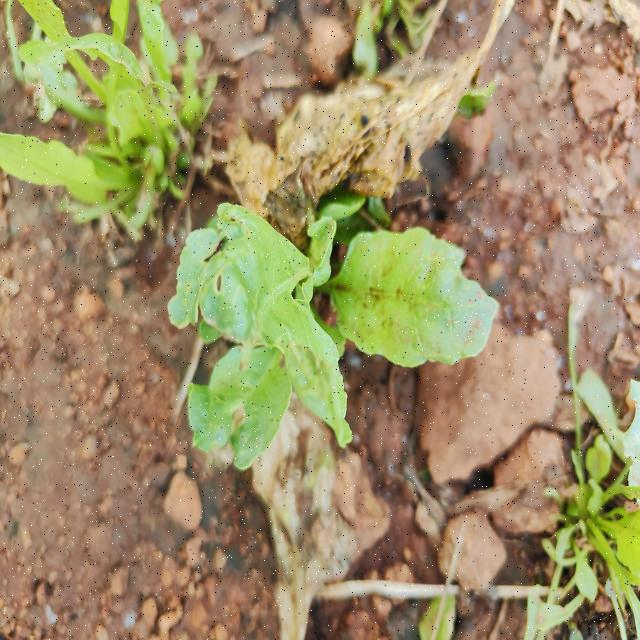leaves: (324, 191, 501, 379), (178, 290, 337, 489), (156, 196, 353, 351), (251, 257, 400, 427)
